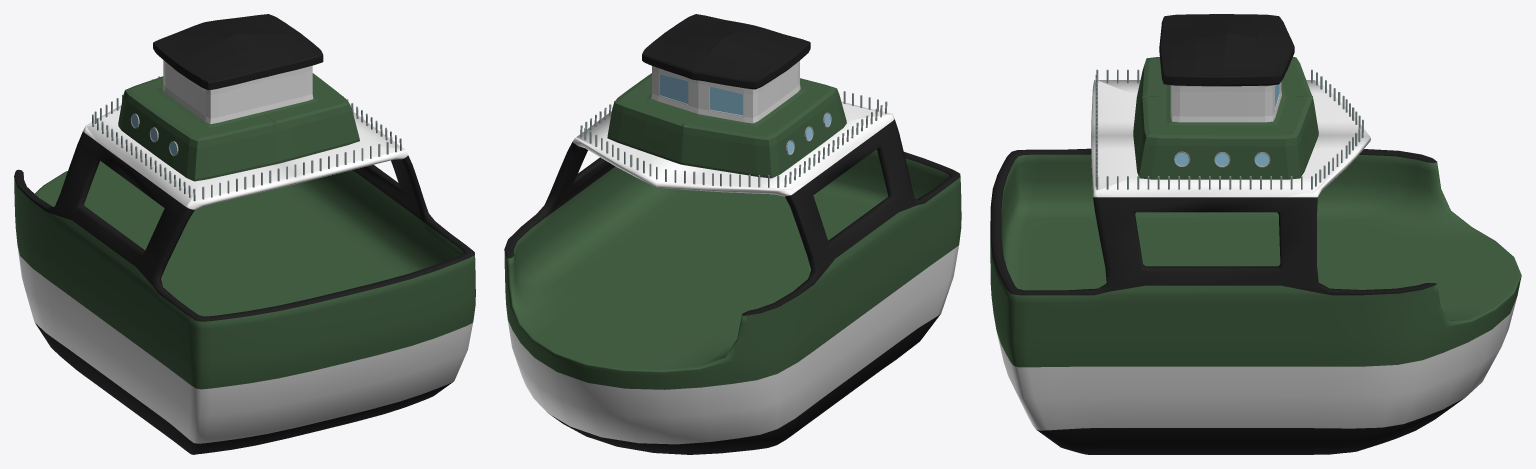
File: Ferry2.fbx
3 views of the same model, side by side, from view 1: azimuth 30°, elevation 25°; view 2: azimuth 150°, elevation 25°; view 3: azimuth 270°, elevation 25° (orthographic). The views are drawn at different scales.
Visible parts, largest first — view 1: Ferry, Captains Quarters, Handrail; view 2: Ferry, Captains Quarters, Handrail; view 3: Ferry, Captains Quarters, Handrail, Windows.
Boxes of the visible parts, x1=… form: Ferry: x1=14, y1=105, x2=475, y2=454; Captains Quarters: x1=118, y1=14, x2=359, y2=181; Handrail: x1=92, y1=76, x2=401, y2=201; Ferry: x1=504, y1=101, x2=961, y2=454; Captains Quarters: x1=607, y1=14, x2=846, y2=178; Handrail: x1=580, y1=91, x2=887, y2=187; Ferry: x1=990, y1=80, x2=1521, y2=454; Captains Quarters: x1=1133, y1=14, x2=1318, y2=179; Handrail: x1=1095, y1=69, x2=1363, y2=189; Windows: x1=1174, y1=151, x2=1270, y2=167.
Size of the model in its own units: 200 by 238 by 310.
